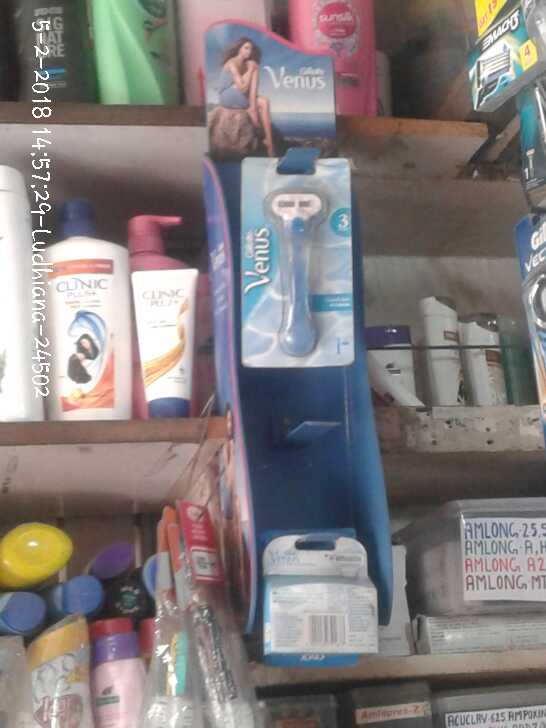beauty: (239, 155, 355, 372), (462, 14, 533, 102)
